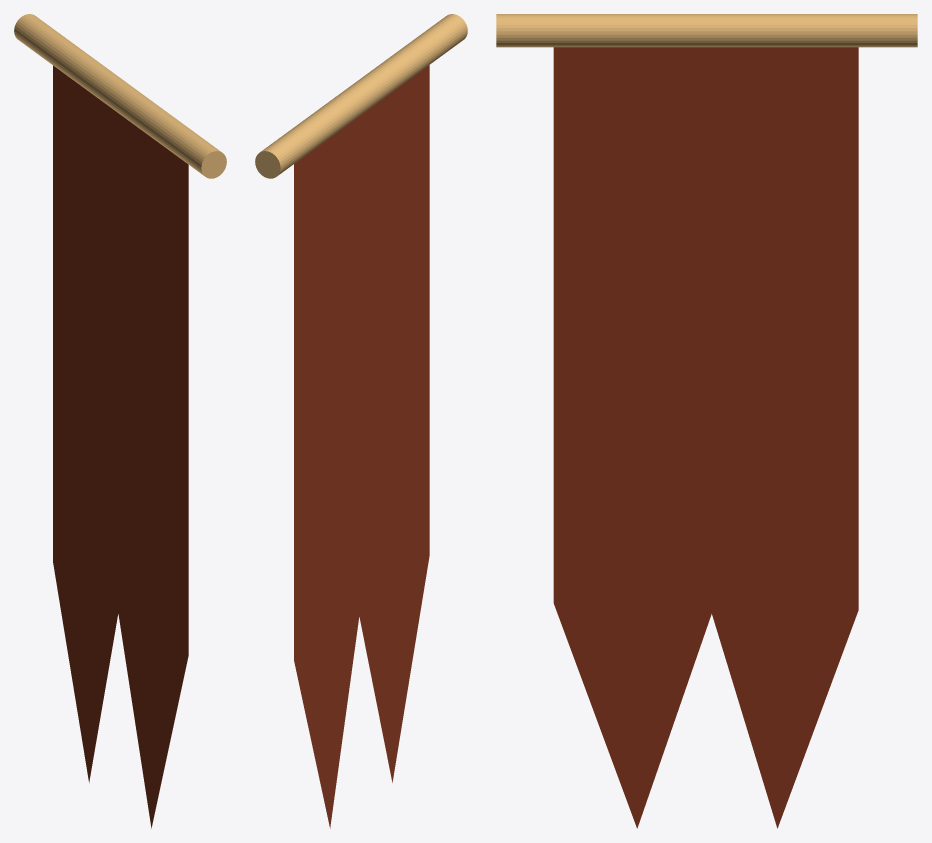
The model's file is bunner.fbx.
The picture shows the model from 3 angles, left to right: view 1: azimuth 30°, elevation 25°; view 2: azimuth 150°, elevation 25°; view 3: azimuth 270°, elevation 25°; orthographic projection. The views are drawn at different scales.
Parts seen in each view (by area): view 1: Cylinder; view 2: Cylinder; view 3: Cylinder.
Part boxes in pixels (x1,y1,x2,y2): Cylinder: (14, 14, 226, 828); Cylinder: (255, 14, 467, 828); Cylinder: (496, 14, 917, 828).
Size of the model in its own units: 21.72 by 589 by 276.
